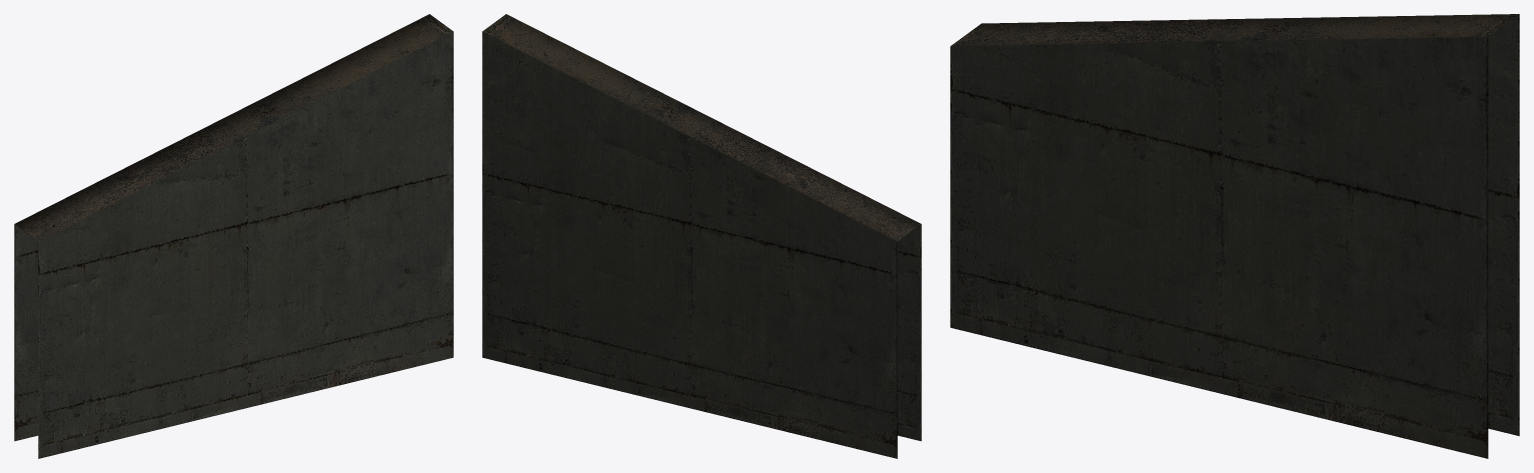
File: wall_top_part_rg_3.glb
3 views of the same model, side by side, from view 1: azimuth 30°, elevation 25°; view 2: azimuth 150°, elevation 25°; view 3: azimuth 330°, elevation 25° (orthographic). The views are drawn at different scales.
Visible parts, largest first — view 1: wall_top_part_rg_3; view 2: wall_top_part_rg_3; view 3: wall_top_part_rg_3.
Part boxes in pixels (box(x1,y1,x2,y2)): wall_top_part_rg_3: box(14, 14, 453, 458); wall_top_part_rg_3: box(482, 14, 921, 458); wall_top_part_rg_3: box(950, 14, 1519, 458).
Bounding box in the file's own units: 4 × 3 × 0.4.
2 materials, 2 textured.
